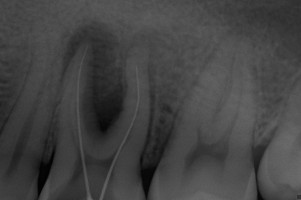Dental Caries: (64, 21, 168, 168)
